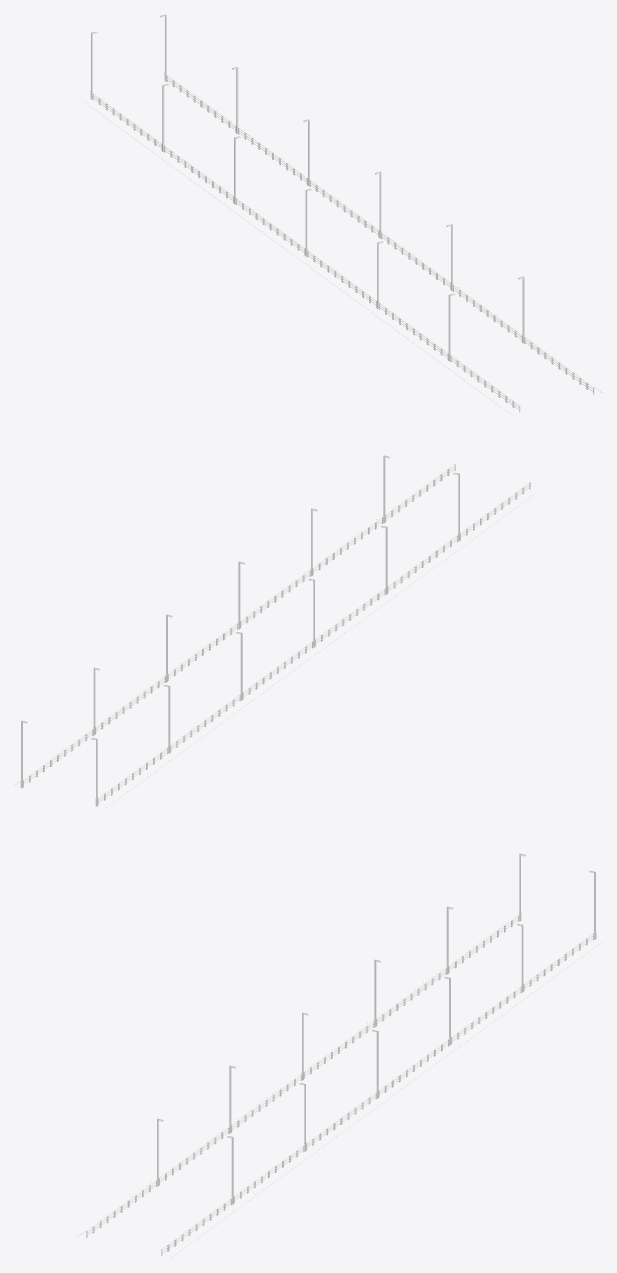
Rendered from rails.glb.
3 views of the same model, one above another, from view 1: azimuth 30°, elevation 25°; view 2: azimuth 150°, elevation 25°; view 3: azimuth 330°, elevation 25° (orthographic).
Visible parts, largest first — view 1: Rail, Lamp Post; view 2: Rail, Lamp Post; view 3: Rail, Lamp Post.
Part boxes in pixels (box(x1,y1,x2,y2)): Rail: box(84, 74, 602, 414); Lamp Post: box(90, 14, 524, 361); Rail: box(14, 463, 538, 807); Lamp Post: box(20, 455, 460, 806); Rail: box(78, 914, 602, 1258); Lamp Post: box(156, 853, 596, 1204).
Bounding box in the file's own units: 29.79 × 11.66 × 137.
Materials: 1 (1 with a texture image).
